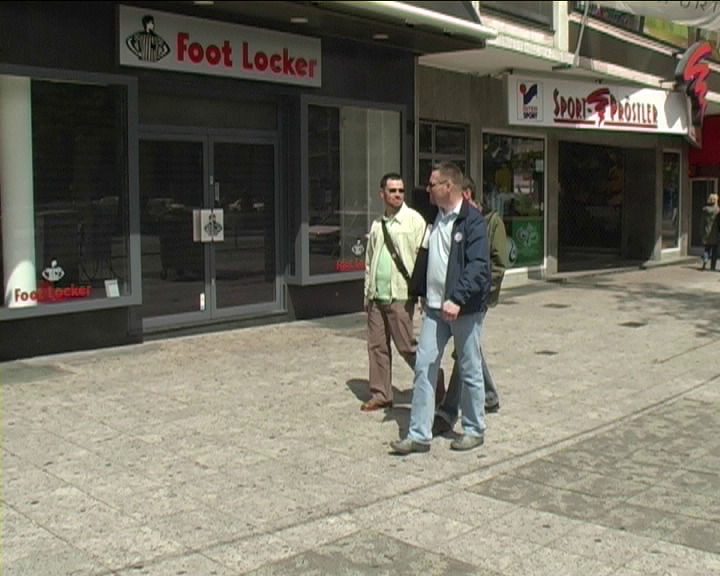deflection: (415, 158, 490, 268), (367, 166, 421, 253)
